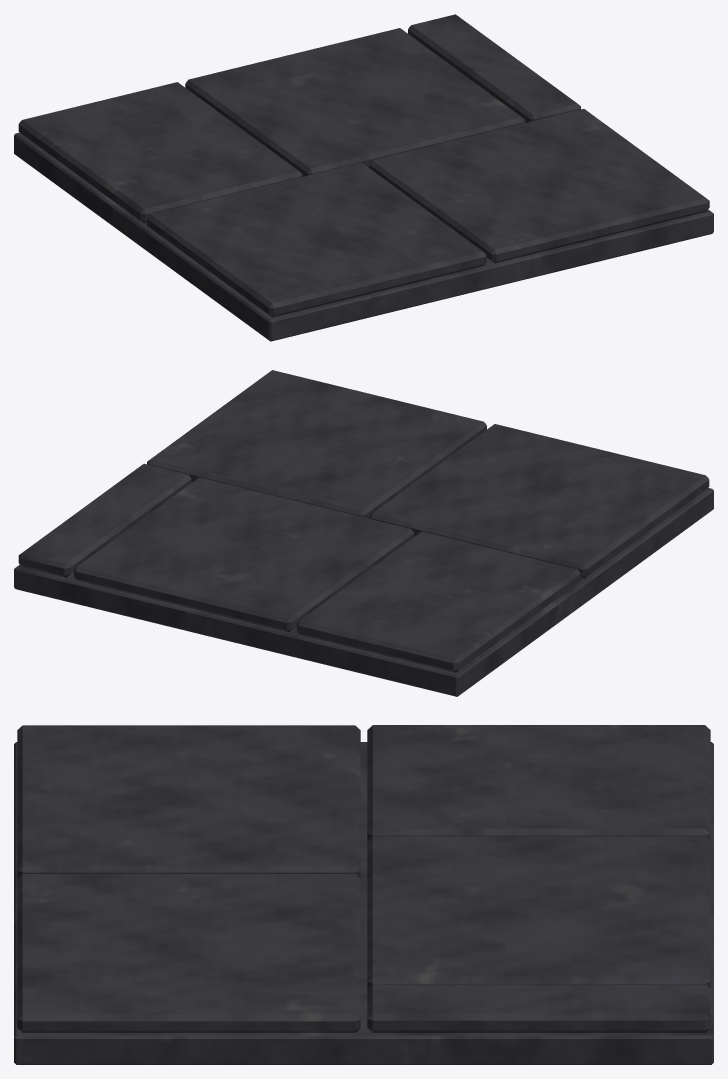
The model's file is piso.glb.
3 renders of one model, top to bottom at view 1: azimuth 30°, elevation 25°; view 2: azimuth 150°, elevation 25°; view 3: azimuth 270°, elevation 25°, orthographic. The views are drawn at different scales.
Visible parts, largest first — view 1: piso; view 2: piso; view 3: piso.
Part boxes in pixels (left/top/right/bottom): piso: left=14, top=14, right=713, bottom=341; piso: left=14, top=370, right=713, bottom=696; piso: left=14, top=725, right=713, bottom=1064.
Size of the model in its own units: 2 by 0.1533 by 2.
1 material, 1 textured.
